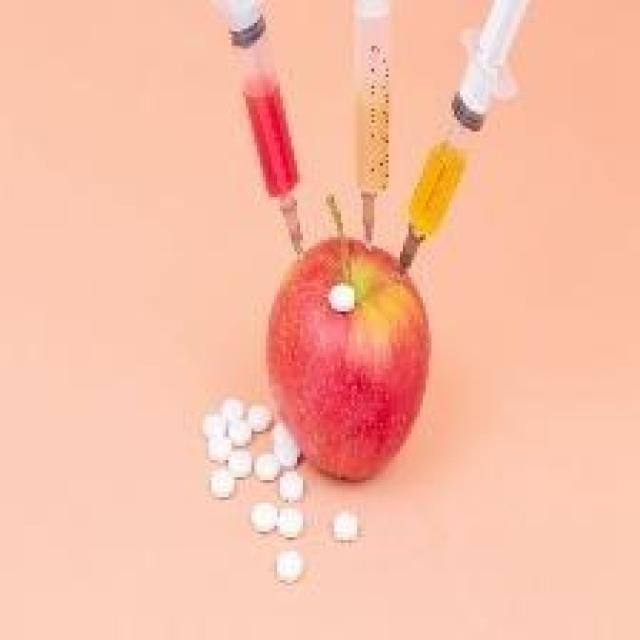syringe: (393, 6, 526, 284), (214, 6, 312, 281), (326, 0, 397, 269)
